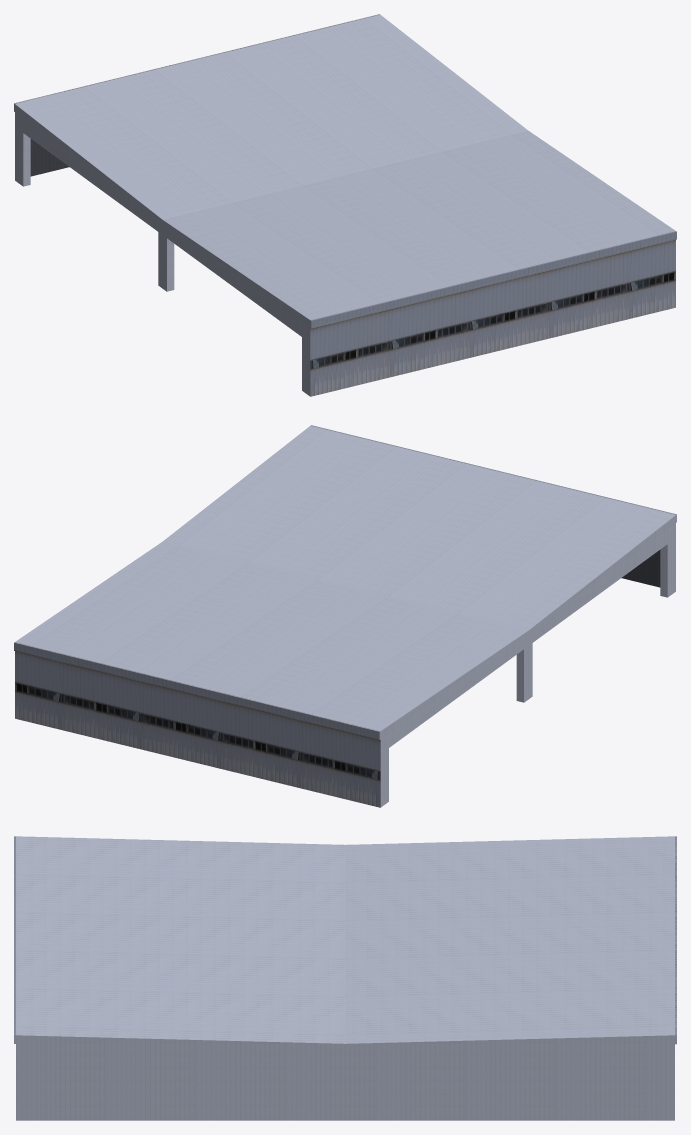
File: HERZELIAHANGAR2.gltf
3 renders of one model, top to bottom at view 1: azimuth 30°, elevation 25°; view 2: azimuth 150°, elevation 25°; view 3: azimuth 270°, elevation 25°, orthographic. The views are drawn at different scales.
Visible parts, largest first — view 1: node1, node3, node2; view 2: node1, node3, node2; view 3: node1, node3.
Boxes of the visible parts, box(x1,y1,x2,y2) form: node1: box(14, 14, 675, 396); node3: box(14, 14, 676, 396); node2: box(30, 139, 69, 176); node1: box(15, 425, 676, 807); node3: box(14, 425, 676, 807); node2: box(621, 550, 660, 587); node1: box(14, 836, 676, 1120); node3: box(14, 836, 676, 1035).
Size of the model in its own units: 25 by 5 by 35.2.
Materials: 3 (3 with a texture image).
